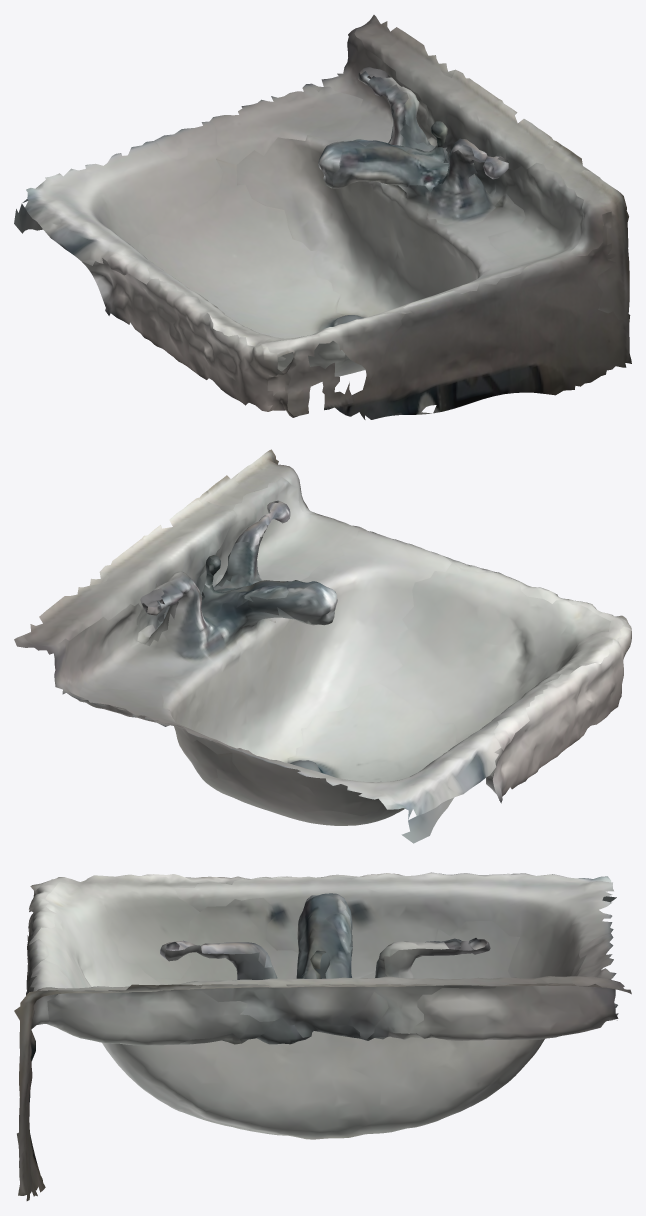
File: faucet.fbx
3 renders of one model, top to bottom at view 1: azimuth 30°, elevation 25°; view 2: azimuth 150°, elevation 25°; view 3: azimuth 270°, elevation 25°, orthographic. The views are drawn at different scales.
Visible parts, largest first — view 1: meshes[0]; view 2: meshes[0]; view 3: meshes[0].
Part boxes in pixels (<box>): meshes[0]: <box>14,15,631,419</box>; meshes[0]: <box>14,449,631,843</box>; meshes[0]: <box>14,872,631,1200</box>.
Size of the model in its own units: 0.4162 by 0.2068 by 0.4797.
